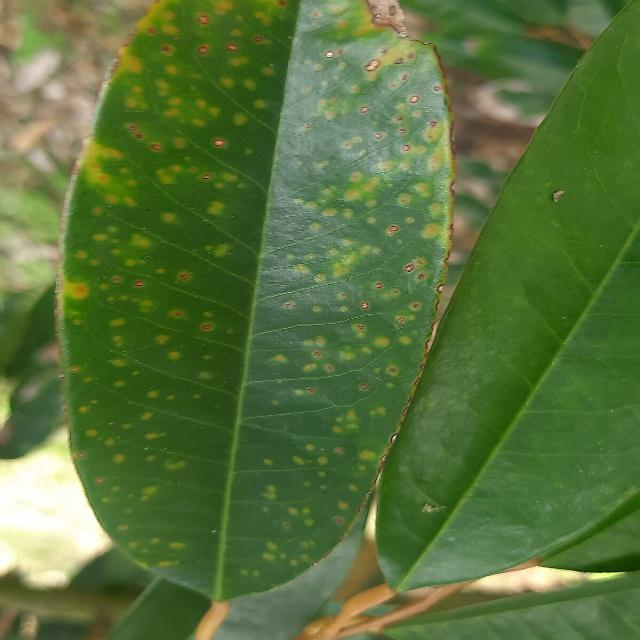Leaf Spot: (46, 0, 449, 611)
